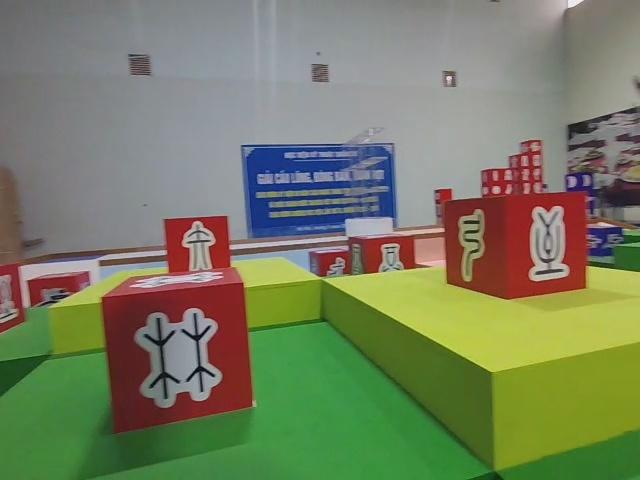R1: (23, 268, 93, 312)
R2 Fake: (443, 188, 591, 300), (162, 213, 232, 280)
R2 Real: (97, 261, 265, 435), (346, 233, 418, 279)
